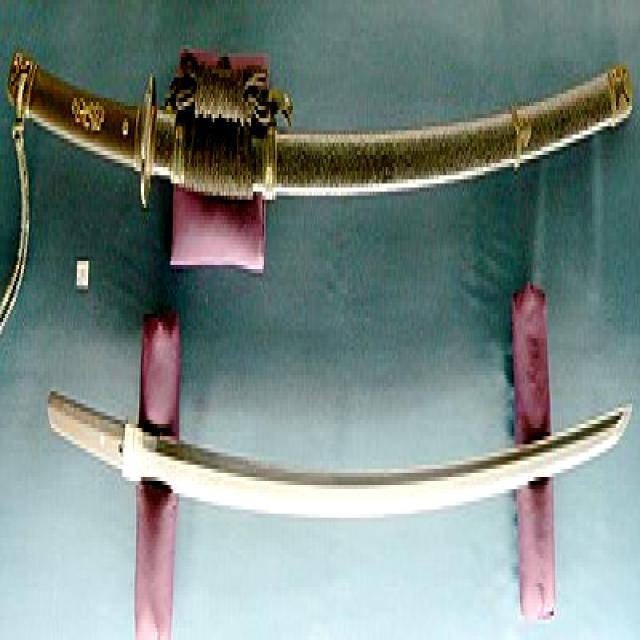long sword: (9, 28, 634, 218), (38, 384, 631, 532)
